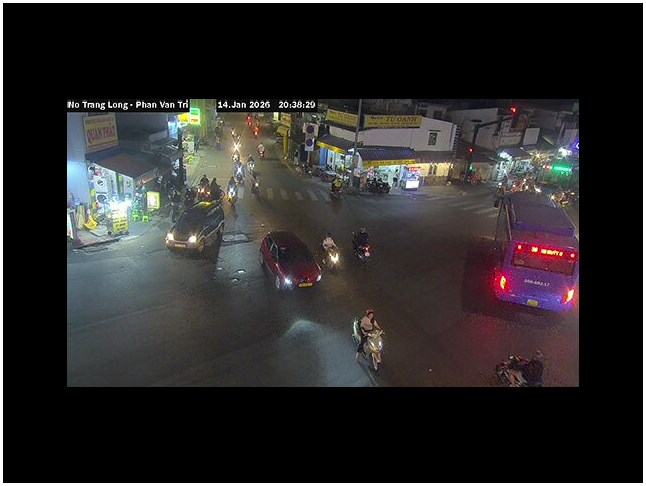car: (470, 191, 579, 315), (259, 229, 323, 290), (164, 203, 225, 255)
motorbike: (494, 349, 545, 386)
